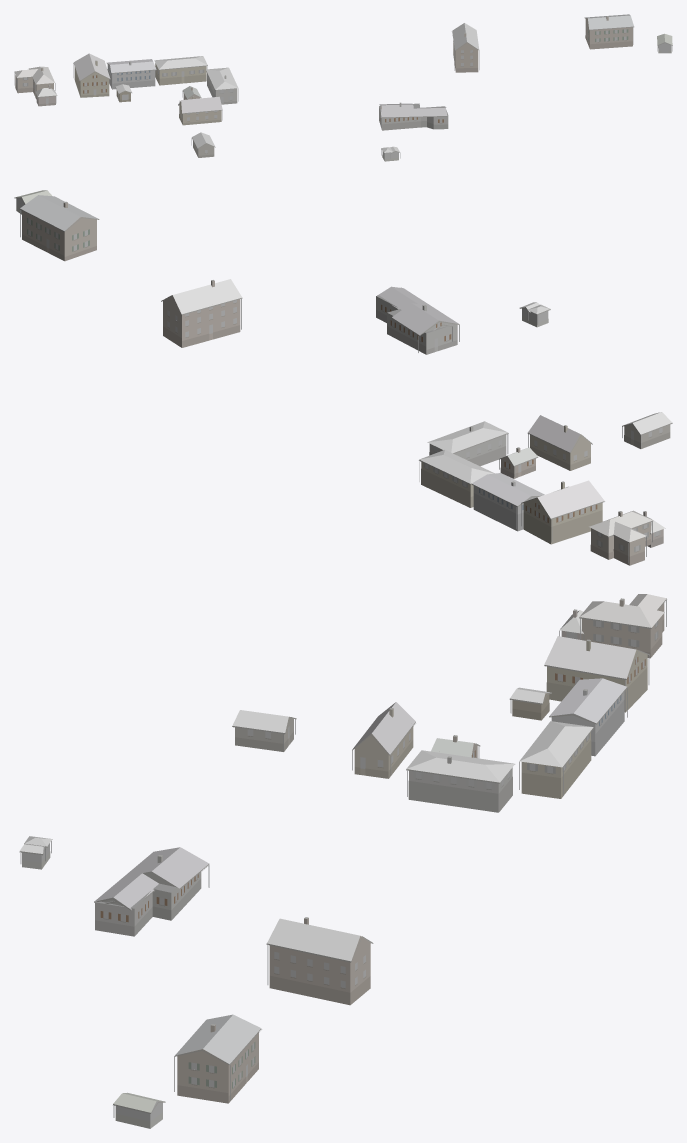
The picture shows the model from 3 angles, top to bottom: view 1: azimuth 30°, elevation 25°; view 2: azimuth 150°, elevation 25°; view 3: azimuth 270°, elevation 25°; orthographic projection. The views are drawn at different scales.
Visible parts, largest first — view 1: bld; view 2: bld; view 3: bld.
Boxes of the visible parts, x1=… form: bld: x1=14, y1=14, x2=672, y2=161; bld: x1=14, y1=190, x2=672, y2=565; bld: x1=19, y1=594, x2=666, y2=1128.
Size of the model in its own units: 212 by 18.8 by 112.
